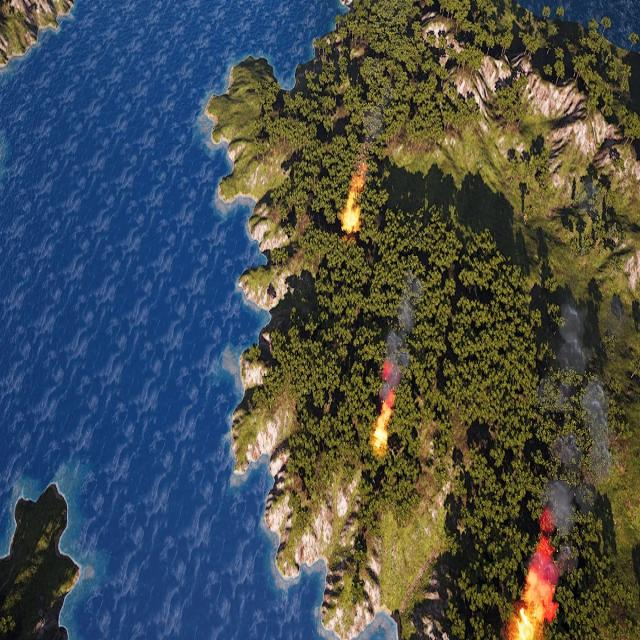fire: (513, 557, 559, 638), (341, 166, 365, 234), (372, 403, 393, 450)
smoke: (520, 295, 615, 635), (380, 276, 424, 412)
